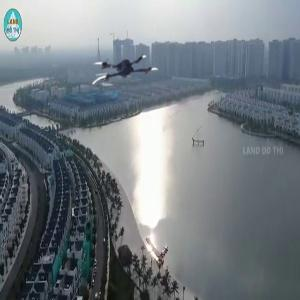drone: (91, 43, 159, 111)
